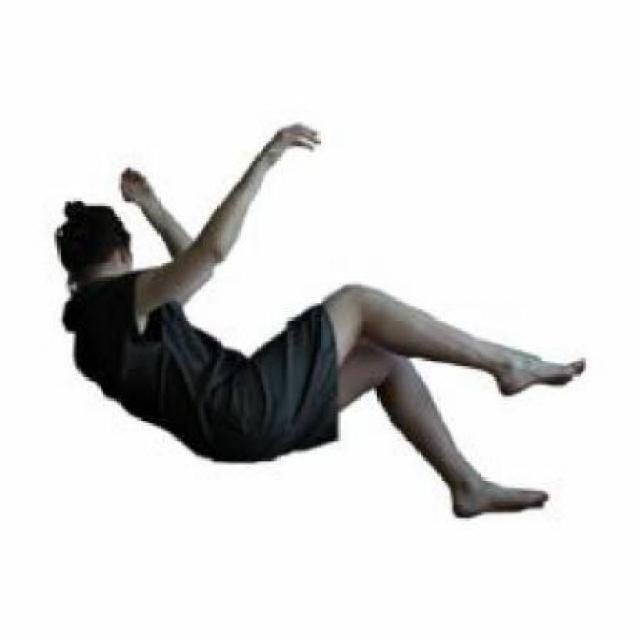fall: (38, 121, 590, 527)
